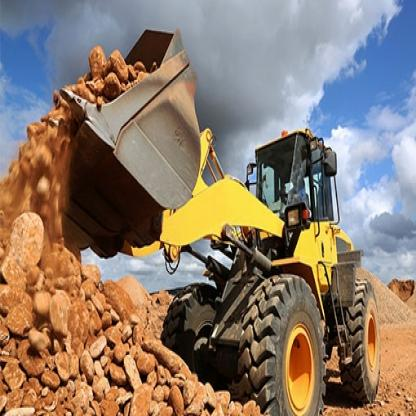bull_dozer/loader/grader: (46, 22, 384, 414)
